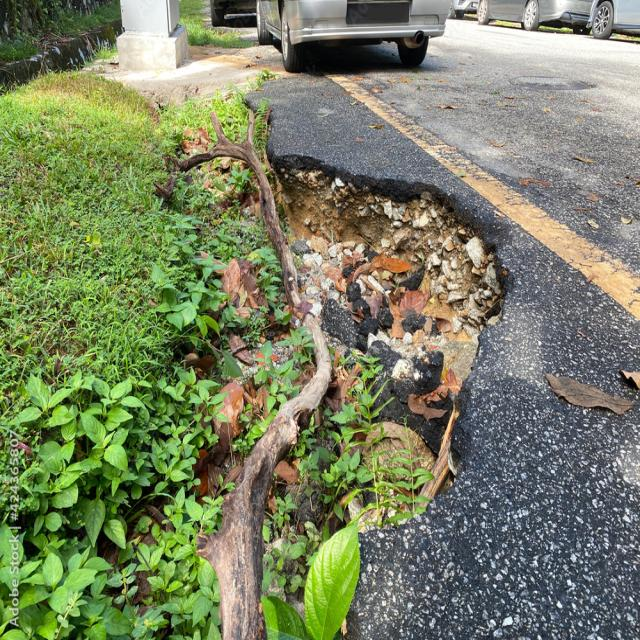Pothole: (44, 129, 640, 640)
